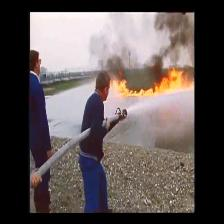fire: (113, 80, 190, 94)
smoke: (159, 18, 190, 40), (147, 51, 165, 74)
